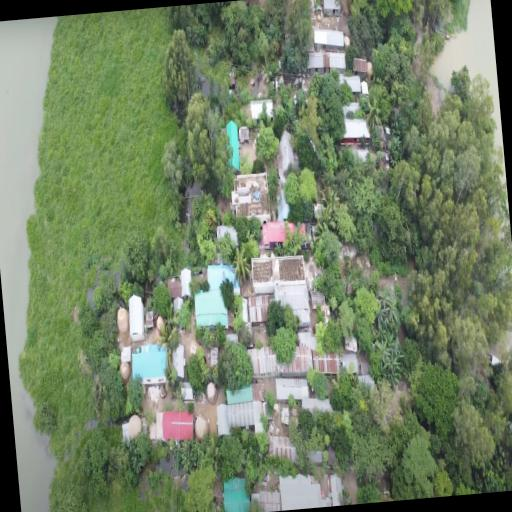flood: (0, 16, 56, 512), (437, 0, 504, 148), (185, 181, 201, 222), (197, 70, 210, 114), (188, 100, 193, 112), (204, 129, 209, 140)
house: (251, 252, 312, 328), (214, 383, 270, 444), (278, 468, 332, 510), (230, 171, 272, 224), (130, 344, 172, 390), (193, 288, 231, 334), (154, 407, 196, 444), (261, 220, 309, 252), (306, 46, 348, 78), (206, 261, 242, 298), (219, 473, 252, 512), (126, 292, 148, 344), (276, 374, 312, 405), (224, 117, 243, 173), (312, 22, 348, 51), (278, 128, 297, 178), (339, 118, 370, 145), (250, 97, 276, 125), (338, 72, 364, 97), (351, 54, 370, 76), (322, 0, 343, 19)
